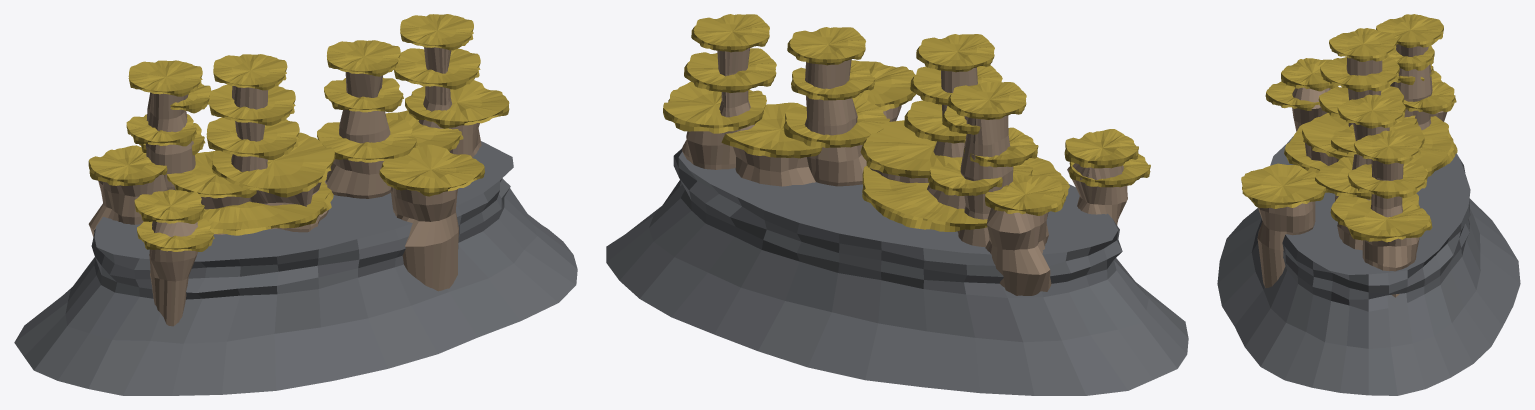
The model's file is CoralReef_Big_01.fbx.
3 views of the same model, side by side, from view 1: azimuth 30°, elevation 25°; view 2: azimuth 150°, elevation 25°; view 3: azimuth 270°, elevation 25° (orthographic). The views are drawn at different scales.
Visible parts, largest first — view 1: CoralReef_Big_01; view 2: CoralReef_Big_01; view 3: CoralReef_Big_01.
Boxes of the visible parts, bbox=[...] form: CoralReef_Big_01: bbox=[14, 14, 577, 395]; CoralReef_Big_01: bbox=[606, 14, 1188, 395]; CoralReef_Big_01: bbox=[1217, 14, 1520, 395].
Size of the model in its own units: 646 by 294 by 367.
